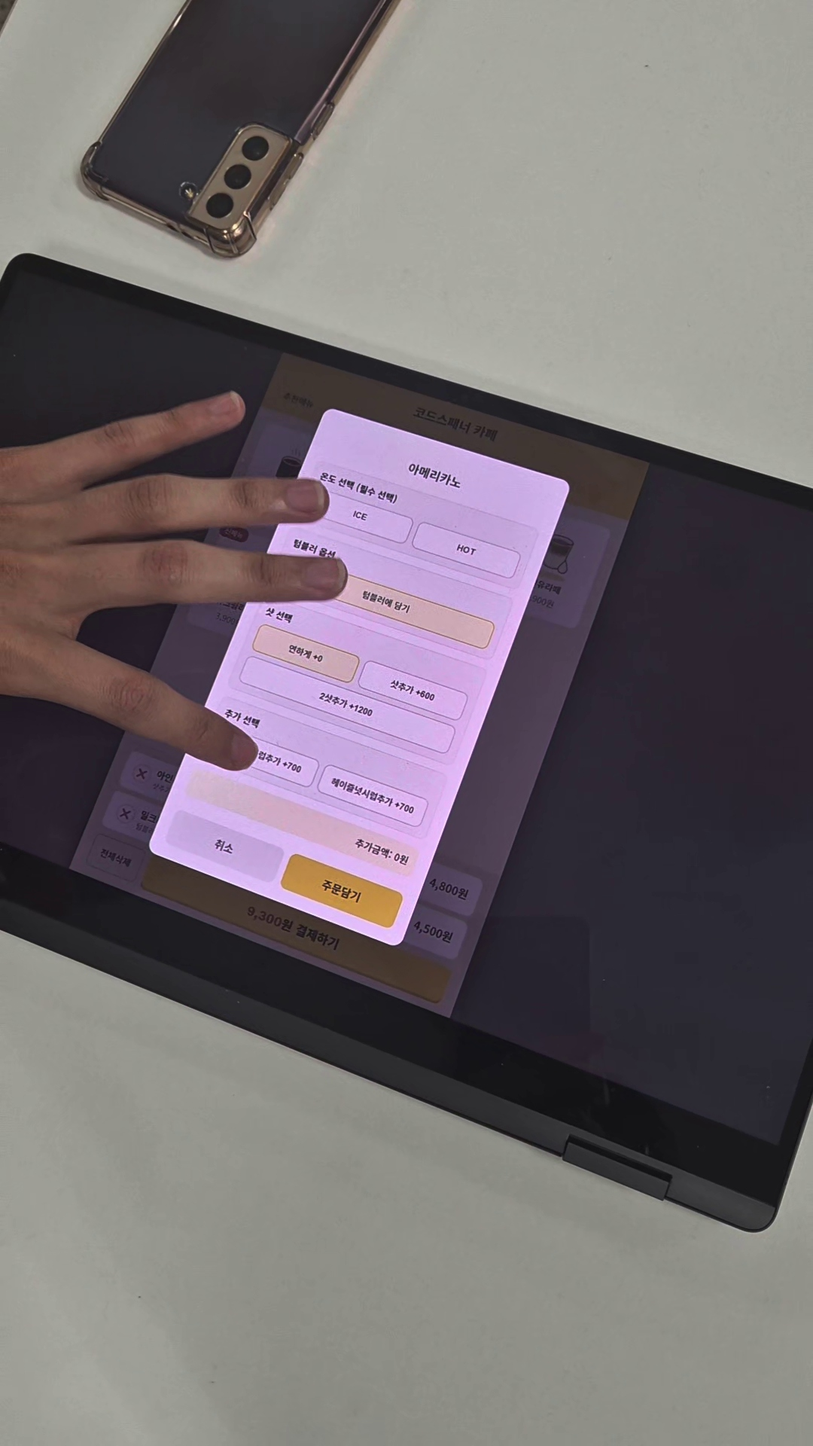action_button: (135, 404, 577, 954), (158, 806, 287, 887), (278, 854, 405, 933)
menu_name: (402, 456, 474, 494)
option_button: (237, 653, 456, 757), (283, 551, 497, 651), (247, 620, 365, 686), (316, 762, 430, 830), (354, 658, 470, 724), (409, 520, 523, 583), (308, 488, 416, 548)
